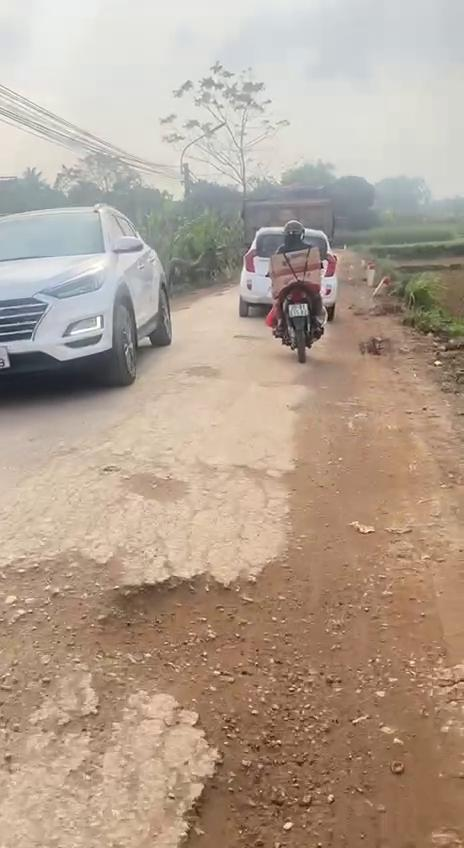pothole: (0, 548, 464, 848), (124, 468, 193, 506), (184, 364, 220, 380)
